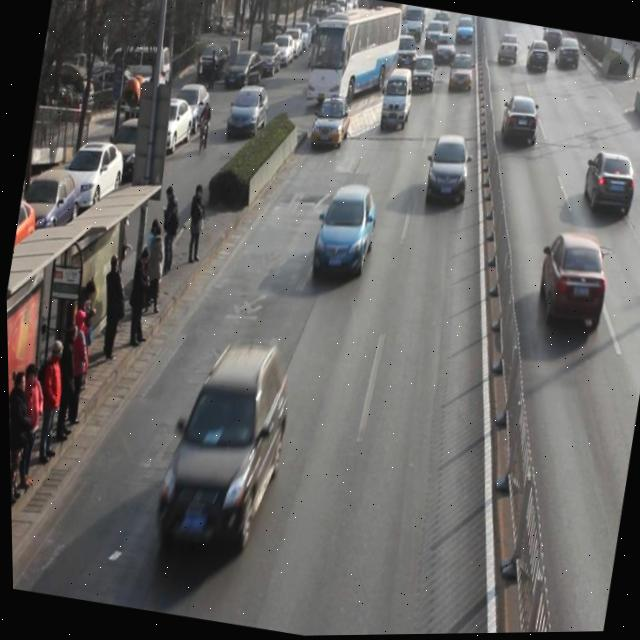car: (142, 331, 299, 571), (531, 228, 615, 335), (307, 179, 383, 287), (578, 149, 639, 221), (422, 133, 475, 210), (306, 93, 354, 156), (497, 93, 543, 150), (407, 52, 439, 98), (445, 52, 477, 97), (390, 33, 422, 78), (429, 32, 459, 71), (554, 36, 583, 74), (523, 39, 552, 76), (496, 32, 521, 69)
truck: (377, 66, 417, 136)
van: (301, 0, 408, 118)
